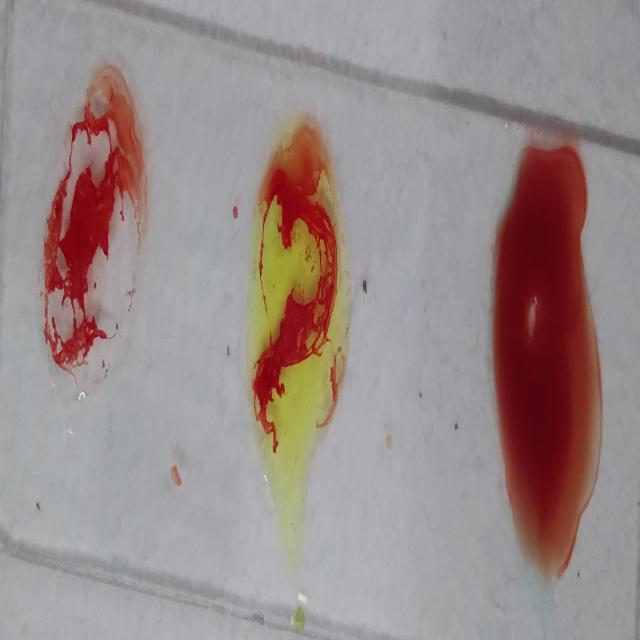B: (252, 113, 344, 508)
D: (40, 59, 148, 396)
